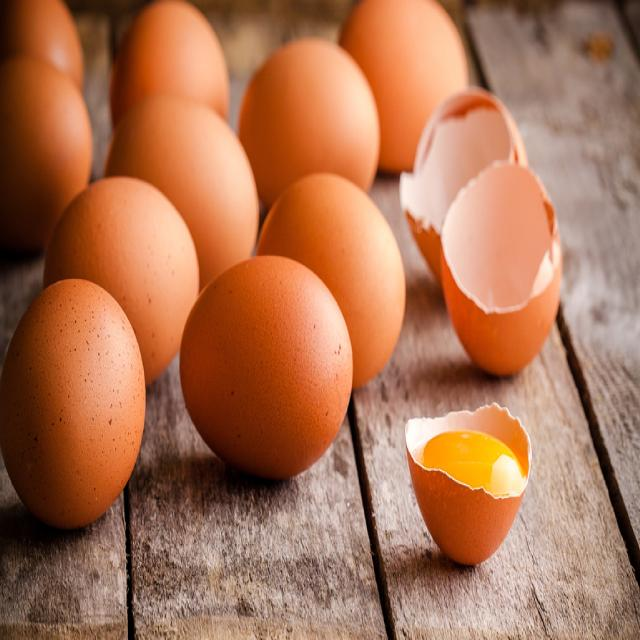Egg: (3, 278, 153, 535), (170, 258, 345, 460), (264, 173, 407, 392), (49, 177, 210, 356), (115, 100, 269, 269)
